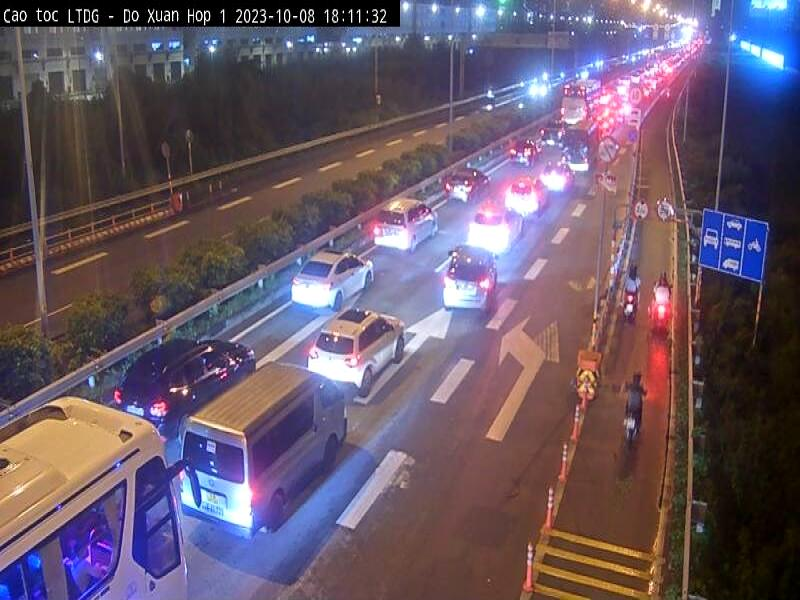bus: (0, 396, 202, 599)
car: (181, 361, 347, 536), (114, 338, 256, 426), (310, 308, 405, 396), (289, 246, 375, 312), (442, 242, 500, 313), (372, 196, 439, 253), (467, 202, 523, 258), (507, 175, 550, 218), (441, 167, 490, 204), (542, 160, 574, 194)
motorcycle: (622, 408, 641, 448), (650, 300, 672, 332), (624, 290, 637, 321)
